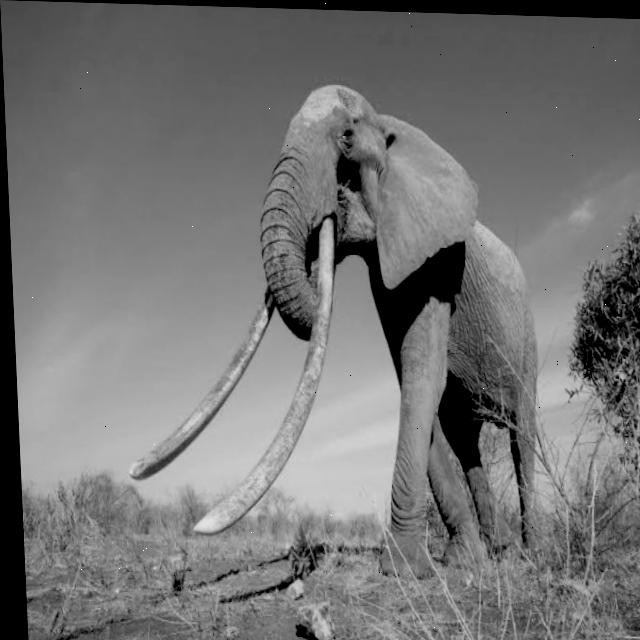Elephant: (110, 75, 551, 583)
